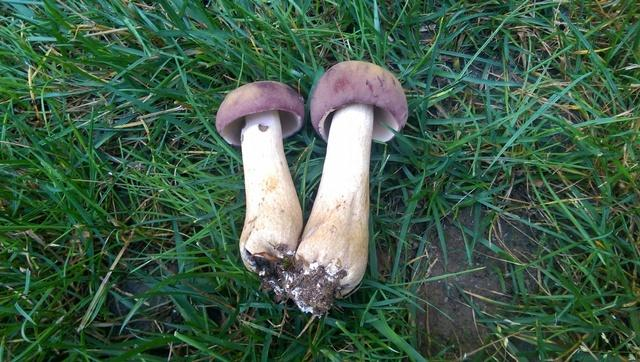poisonous_mushroom: (293, 58, 409, 313), (214, 78, 306, 278)
